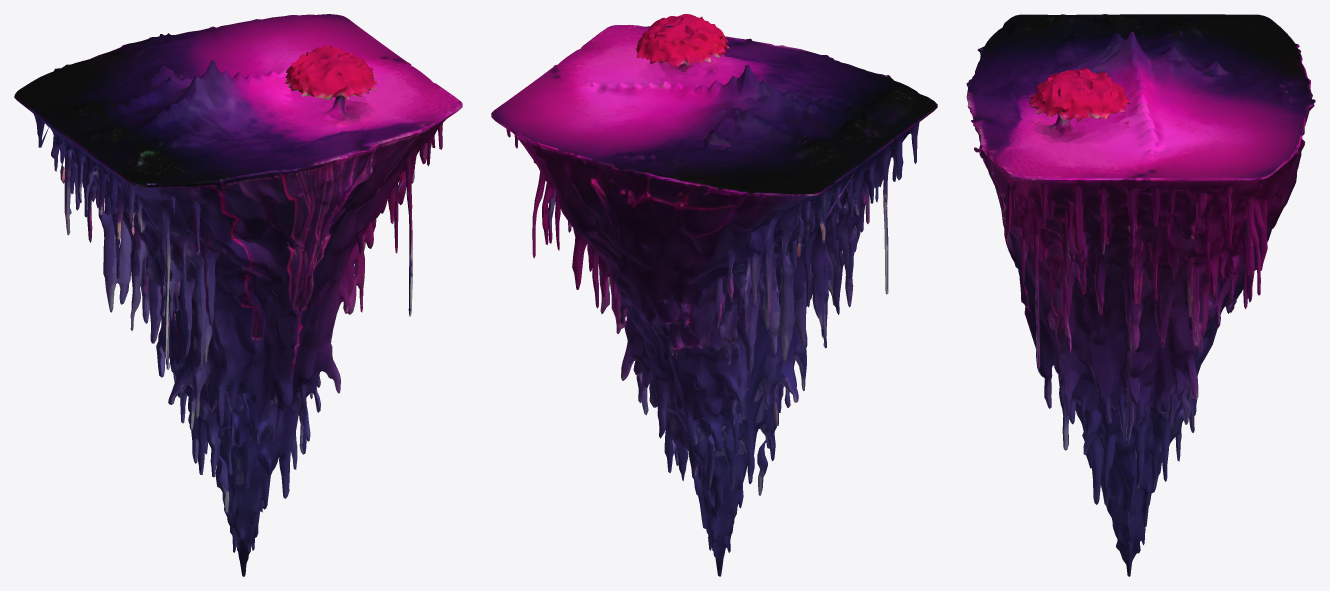
File: sea-root-nw-generated-2026-05-17T19-43-51-539Z.high.glb
3 views of the same model, side by side, from view 1: azimuth 30°, elevation 25°; view 2: azimuth 150°, elevation 25°; view 3: azimuth 270°, elevation 25° (orthographic). The views are drawn at different scales.
Parts seen in each view (by area): view 1: temp_mesh.ply; view 2: temp_mesh.ply; view 3: temp_mesh.ply.
Part boxes in pixels (<box>): temp_mesh.ply: <box>14,14,462,576</box>; temp_mesh.ply: <box>491,14,937,576</box>; temp_mesh.ply: <box>966,14,1315,576</box>.
Bounding box in the file's own units: 1.31 × 1.97 × 1.17.
1 material, 1 textured.
